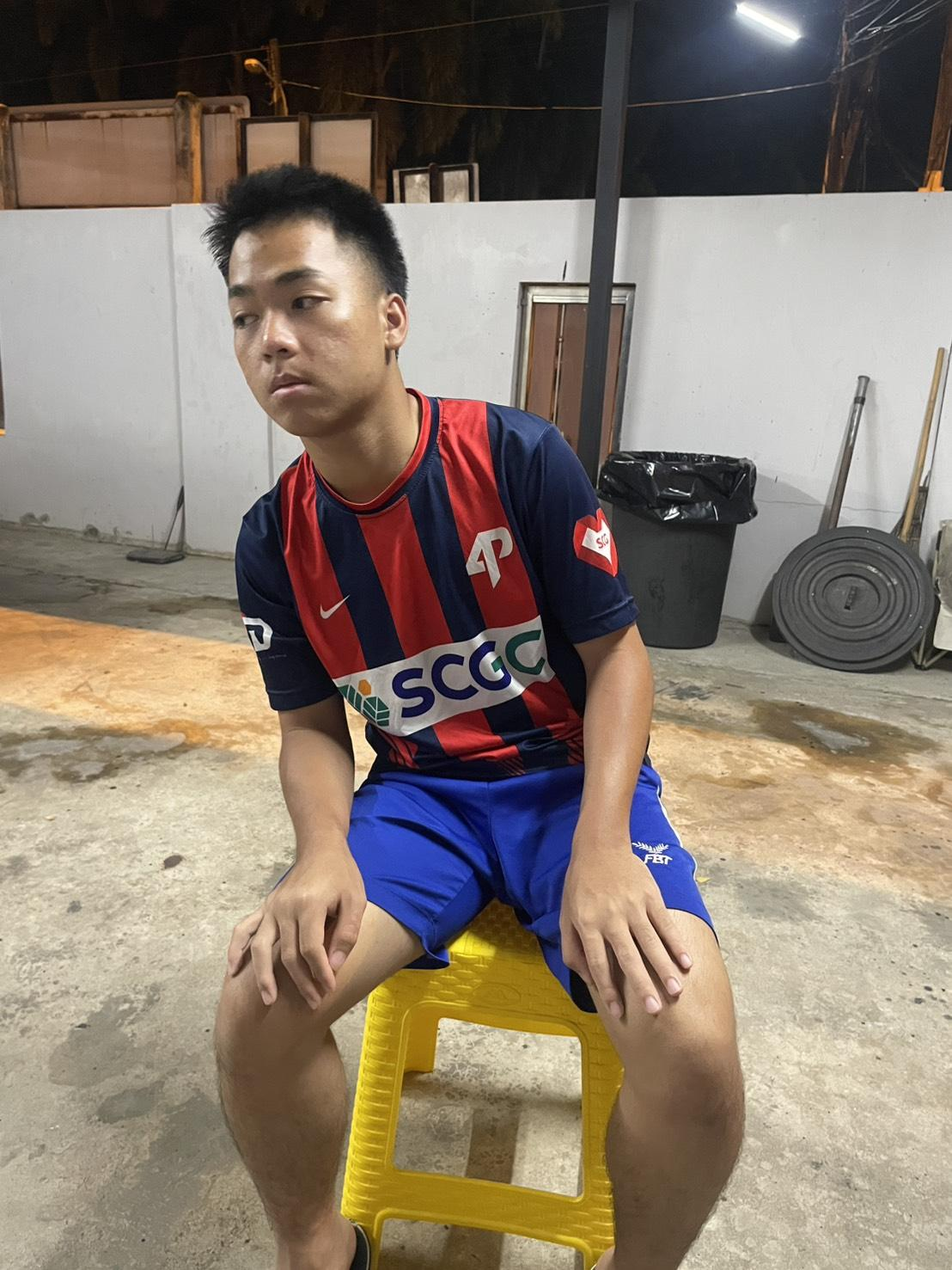BadPosture: (205, 166, 650, 788), (207, 164, 643, 780)
